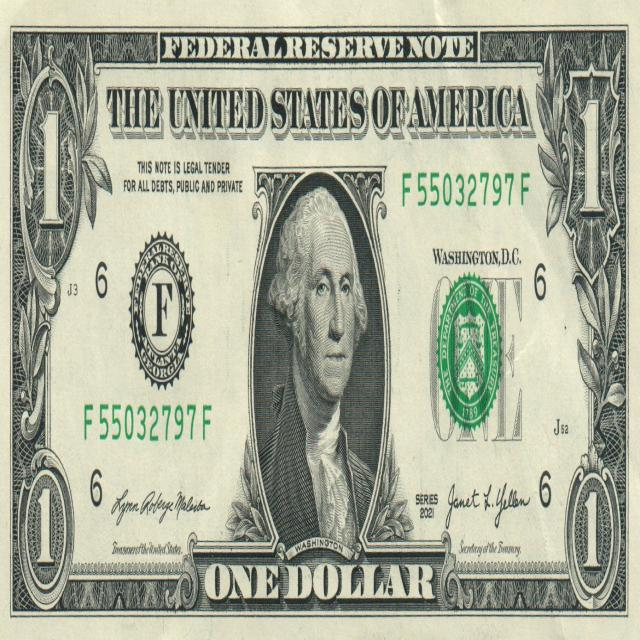SerialNumber: (84, 404, 211, 441), (403, 172, 529, 206)
